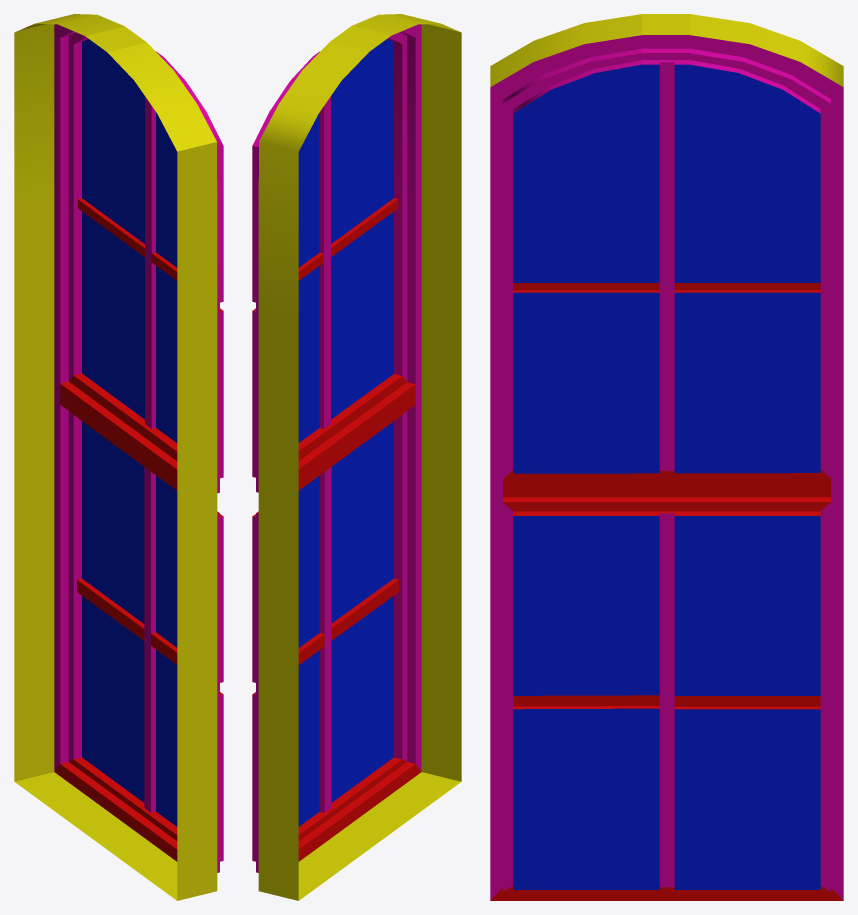
The model's file is vaggfonster.fbx.
3 views of the same model, side by side, from view 1: azimuth 30°, elevation 25°; view 2: azimuth 150°, elevation 25°; view 3: azimuth 270°, elevation 25° (orthographic). The views are drawn at different scales.
Parts seen in each view (by area): view 1: polySurface3; view 2: polySurface3; view 3: polySurface3.
Part boxes in pixels (x1,y1,x2,y2): polySurface3: (14,14,223,900); polySurface3: (252,14,461,900); polySurface3: (490,14,843,900).
Bounding box in the file's own units: 20 × 268 × 99.05.
